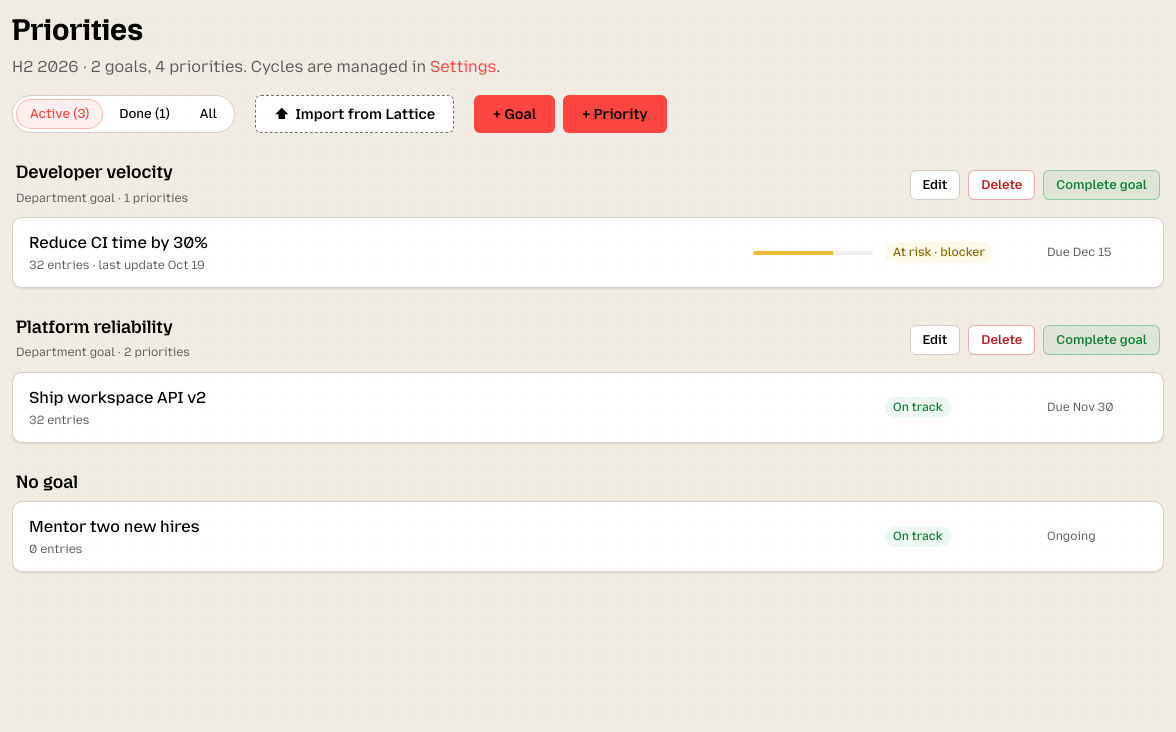
Test: Priorities › groups priorities by department goal and filters Active/Done
Check: the element "Developer velocity" is shown, box 12,153 -> 1164,288
Check: the text "Reduce CI time by 30%" is shown, box 29,233 -> 208,252
Step 1. Click the button "Done (1)" → (145, 114), box 105,99 -> 184,129
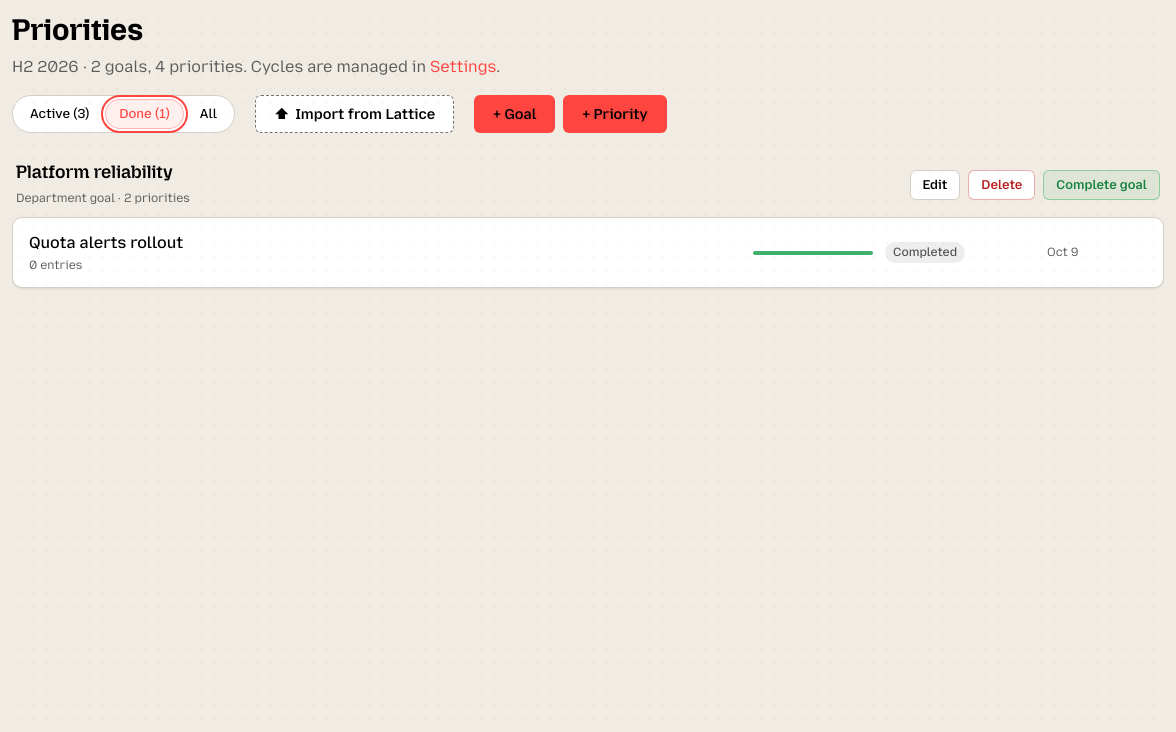
Check: the text "Quota alerts rollout" is shown, box 29,233 -> 183,252
Check: the button "Reduce CI time by 30%" is gone
